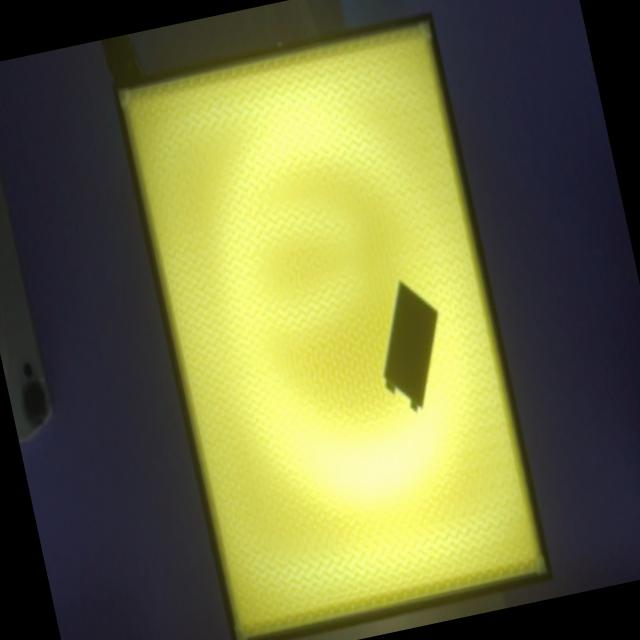bateria: (383, 279, 438, 411)
mesa: (111, 11, 553, 640)
